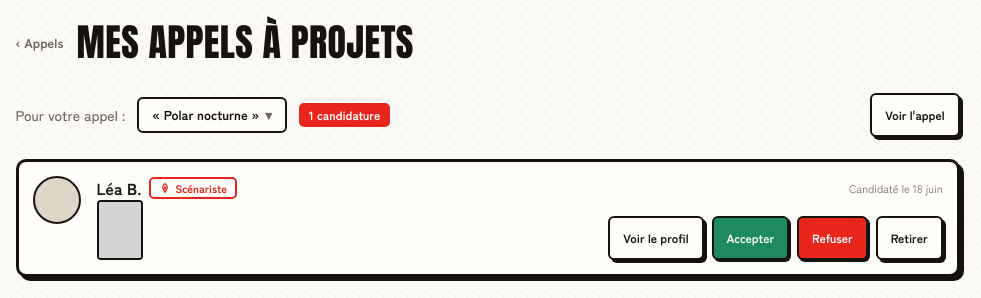
it: CandidaturesRecuesClient (MC-7) › rejects a pending application and announces it
Expected: the text "« Polar nocturne »" is shown, [152,105,259,125]
Click the button with aria-label "Refuser la candidature de Léa B." at [832, 238], box [797,216,868,260]
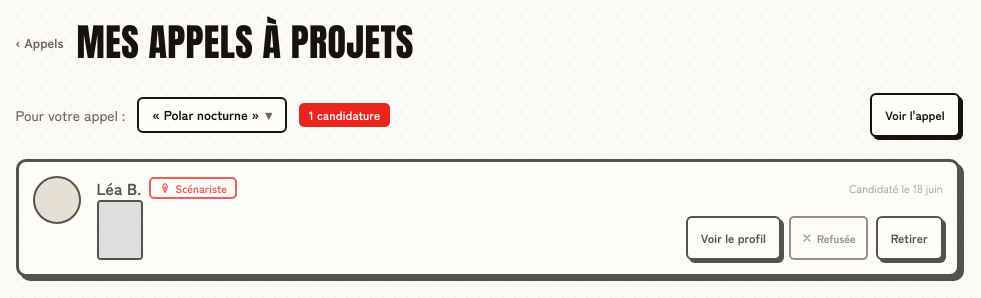
Now the text "Refusée" is shown, box [789,216,868,260]
